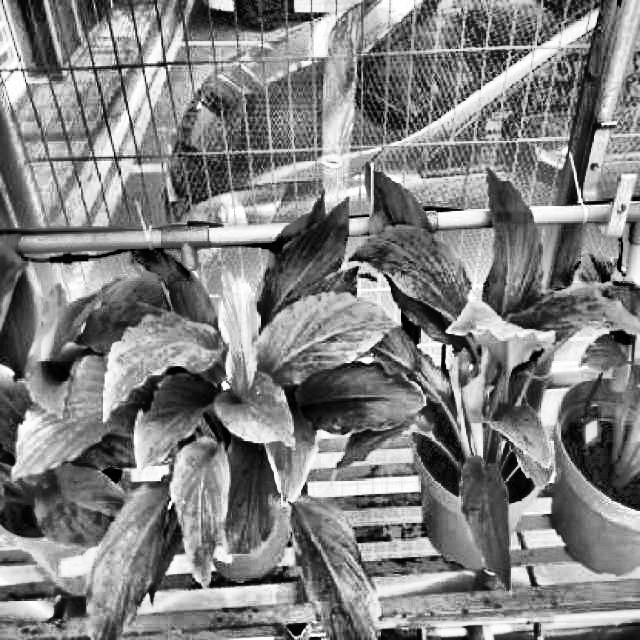plants: (10, 186, 428, 640), (329, 163, 640, 597)
